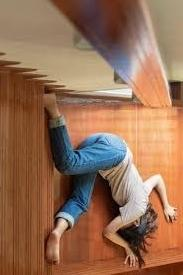fall: (52, 77, 171, 275)
